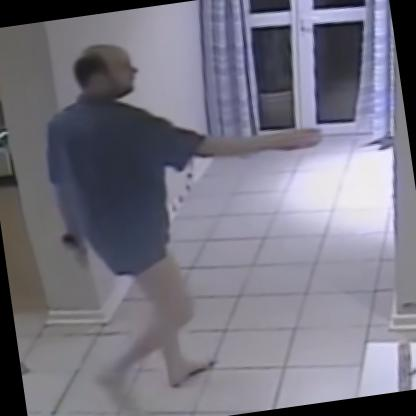Human Body: (15, 7, 367, 415)
